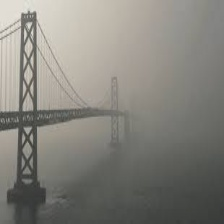smoke: (107, 1, 224, 186)
